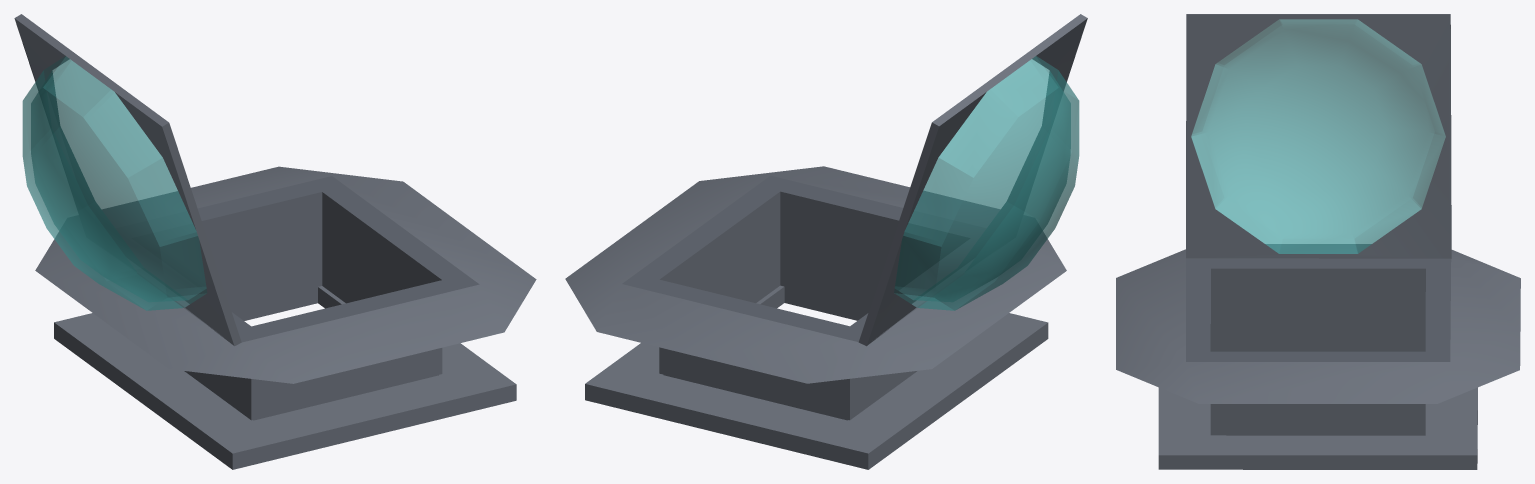
Rendered from Hatch_Anim.glb.
3 views of the same model, side by side, from view 1: azimuth 30°, elevation 25°; view 2: azimuth 150°, elevation 25°; view 3: azimuth 270°, elevation 25° (orthographic). The views are drawn at different scales.
Parts seen in each view (by area): view 1: HatchB, HatchDoor; view 2: HatchB, HatchDoor; view 3: HatchB, HatchDoor.
Boxes of the visible parts, box(x1,y1,x2,y2) form: HatchB: box(35, 166, 536, 469); HatchDoor: box(14, 14, 241, 346); HatchB: box(565, 166, 1066, 469); HatchDoor: box(858, 14, 1087, 346); HatchB: box(1116, 244, 1520, 469); HatchDoor: box(1186, 14, 1451, 258).
Size of what is drawn, in the model's own units: 2.69 by 2.11 by 2.5.
2 materials, 2 textured.
